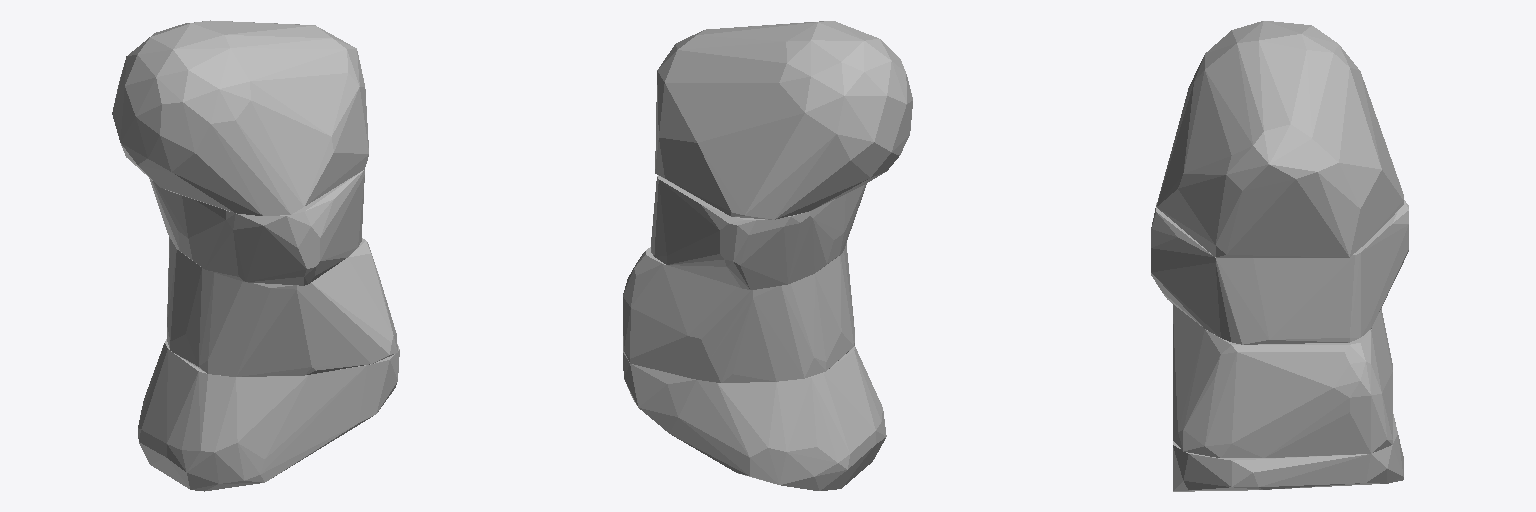
URDF robot description (root):
<robot name="root">
  <link name="link_pawn_convex_piece_0">
    <inertial>
      <origin rpy="0 0 0" xyz="0 0 0"/>
      <mass value="-3.65E-05"/>
      <inertia ixx="-6.60E-08" ixy="5.17E-11" ixz="-1.26E-10" iyy="-6.73E-08" iyz="9.25E-10" izz="-1.43E-08"/>
    </inertial>
    <visual>
      <origin rpy="0 0 0" xyz="0 0 0"/>
      <geometry>
        <mesh filename="pawn_convex_piece_0.obj" scale="1.0000E+00"/>
      </geometry>
      <material name="">
        <color rgba="7.50E-01 7.50E-01 7.50E-01 1"/>
      </material>
    </visual>
    <collision>
      <origin rpy="0 0 0" xyz="0 0 0"/>
      <geometry>
        <mesh filename="pawn_convex_piece_0.obj" scale="1.0000E+00"/>
      </geometry>
    </collision>
  </link>
  <link name="link_pawn_convex_piece_1">
    <inertial>
      <origin rpy="0 0 0" xyz="0 0 0"/>
      <mass value="-4.07E-05"/>
      <inertia ixx="-1.97E-08" ixy="-3.91E-10" ixz="5.25E-09" iyy="-2.18E-08" iyz="5.50E-10" izz="-1.59E-08"/>
    </inertial>
    <visual>
      <origin rpy="0 0 0" xyz="0 0 0"/>
      <geometry>
        <mesh filename="pawn_convex_piece_1.obj" scale="1.0000E+00"/>
      </geometry>
      <material name="">
        <color rgba="7.50E-01 7.50E-01 7.50E-01 1"/>
      </material>
    </visual>
    <collision>
      <origin rpy="0 0 0" xyz="0 0 0"/>
      <geometry>
        <mesh filename="pawn_convex_piece_1.obj" scale="1.0000E+00"/>
      </geometry>
    </collision>
  </link>
  <joint name="link_pawn_convex_piece_1_joint" type="fixed">
    <origin rpy="0 0 0" xyz="0 0 0"/>
    <parent link="link_pawn_convex_piece_0"/>
    <child link="link_pawn_convex_piece_1"/>
  </joint>
  <link name="link_pawn_convex_piece_2">
    <inertial>
      <origin rpy="0 0 0" xyz="0 0 0"/>
      <mass value="-3.18E-05"/>
      <inertia ixx="-9.73E-09" ixy="2.69E-11" ixz="-4.42E-10" iyy="-7.73E-09" iyz="-7.25E-11" izz="-1.06E-08"/>
    </inertial>
    <visual>
      <origin rpy="0 0 0" xyz="0 0 0"/>
      <geometry>
        <mesh filename="pawn_convex_piece_2.obj" scale="1.0000E+00"/>
      </geometry>
      <material name="">
        <color rgba="7.50E-01 7.50E-01 7.50E-01 1"/>
      </material>
    </visual>
    <collision>
      <origin rpy="0 0 0" xyz="0 0 0"/>
      <geometry>
        <mesh filename="pawn_convex_piece_2.obj" scale="1.0000E+00"/>
      </geometry>
    </collision>
  </link>
  <joint name="link_pawn_convex_piece_2_joint" type="fixed">
    <origin rpy="0 0 0" xyz="0 0 0"/>
    <parent link="link_pawn_convex_piece_1"/>
    <child link="link_pawn_convex_piece_2"/>
  </joint>
  <link name="link_pawn_convex_piece_3">
    <inertial>
      <origin rpy="0 0 0" xyz="0 0 0"/>
      <mass value="-5.71E-05"/>
      <inertia ixx="-8.34E-08" ixy="-3.32E-10" ixz="9.11E-09" iyy="-8.94E-08" iyz="5.14E-10" izz="-2.17E-08"/>
    </inertial>
    <visual>
      <origin rpy="0 0 0" xyz="0 0 0"/>
      <geometry>
        <mesh filename="pawn_convex_piece_3.obj" scale="1.0000E+00"/>
      </geometry>
      <material name="">
        <color rgba="7.50E-01 7.50E-01 7.50E-01 1"/>
      </material>
    </visual>
    <collision>
      <origin rpy="0 0 0" xyz="0 0 0"/>
      <geometry>
        <mesh filename="pawn_convex_piece_3.obj" scale="1.0000E+00"/>
      </geometry>
    </collision>
  </link>
  <joint name="link_pawn_convex_piece_3_joint" type="fixed">
    <origin rpy="0 0 0" xyz="0 0 0"/>
    <parent link="link_pawn_convex_piece_2"/>
    <child link="link_pawn_convex_piece_3"/>
  </joint>
</robot>

--- Facts derived from the render (not from the file) ---
The picture shows the robot from 3 angles, left to right: view 1: azimuth 30°, elevation 25°; view 2: azimuth 150°, elevation 25°; view 3: azimuth 270°, elevation 25°; orthographic projection.
Robot: root — 4 links, 3 joints (3 fixed); root link link_pawn_convex_piece_0; default pose: all joints at 0.
Visible links, largest first — view 1: link_pawn_convex_piece_3, link_pawn_convex_piece_0, link_pawn_convex_piece_1, link_pawn_convex_piece_2; view 2: link_pawn_convex_piece_3, link_pawn_convex_piece_1, link_pawn_convex_piece_0, link_pawn_convex_piece_2; view 3: link_pawn_convex_piece_3, link_pawn_convex_piece_1, link_pawn_convex_piece_2, link_pawn_convex_piece_0.
Link boxes in pixels (x1,y1,x2,y2): link_pawn_convex_piece_3: (112,20,368,215); link_pawn_convex_piece_0: (138,339,399,491); link_pawn_convex_piece_1: (167,237,397,376); link_pawn_convex_piece_2: (149,170,364,285); link_pawn_convex_piece_3: (655,21,912,219); link_pawn_convex_piece_1: (623,243,854,382); link_pawn_convex_piece_0: (623,346,886,490); link_pawn_convex_piece_2: (651,175,866,289); link_pawn_convex_piece_3: (1156,21,1403,257); link_pawn_convex_piece_1: (1173,304,1392,457); link_pawn_convex_piece_2: (1151,200,1408,344); link_pawn_convex_piece_0: (1173,414,1403,491).
Bounding box of the posed robot: 0.0698 × 0.0598 × 0.1171 m (x, y, z).
Meshes: 4 distinct files referenced, 4 mesh visuals loaded (4 OBJ).